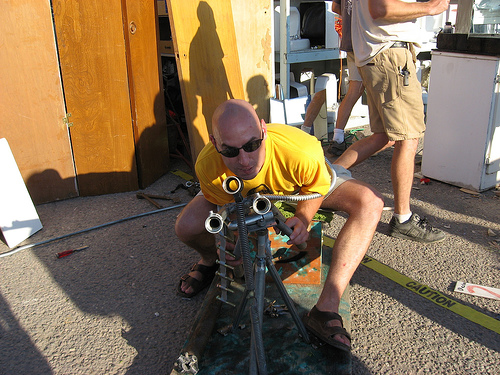rifle: (176, 192, 314, 326)
